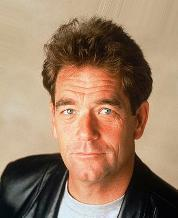face: (57, 99, 118, 160)
